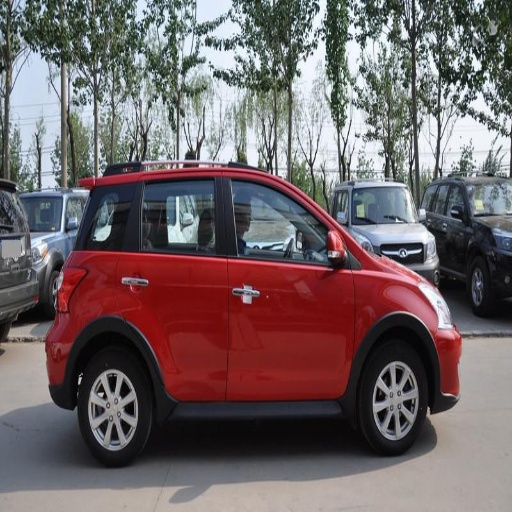back_right_door: (114, 173, 229, 398)
